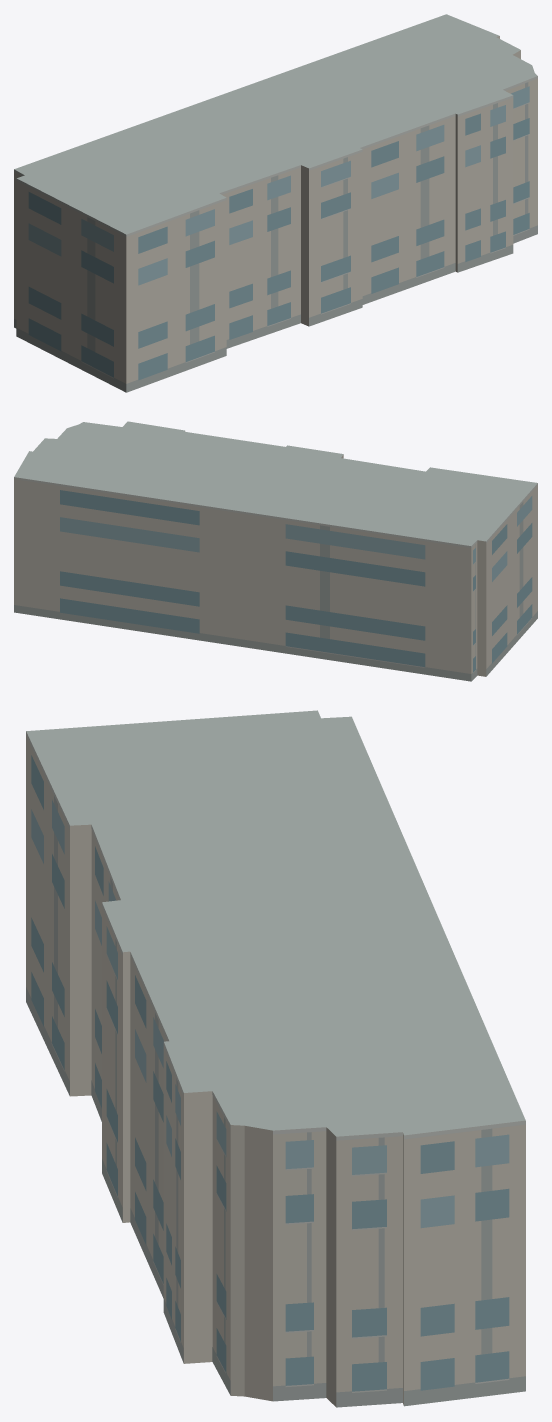
The model's file is survey-upis-32841385.glb.
The picture shows the model from 3 angles, top to bottom: view 1: azimuth 30°, elevation 25°; view 2: azimuth 150°, elevation 25°; view 3: azimuth 270°, elevation 25°; orthographic projection. The views are drawn at different scales.
Visible parts, largest first — view 1: survey-upis-32841385.tmp; view 2: survey-upis-32841385.tmp; view 3: survey-upis-32841385.tmp.
Boxes of the visible parts, <box> form: survey-upis-32841385.tmp: <box>14,14,537,392</box>; survey-upis-32841385.tmp: <box>14,421,537,681</box>; survey-upis-32841385.tmp: <box>26,710,525,1407</box>.
Size of the model in its own units: 55.36 by 16.4 by 27.44.
